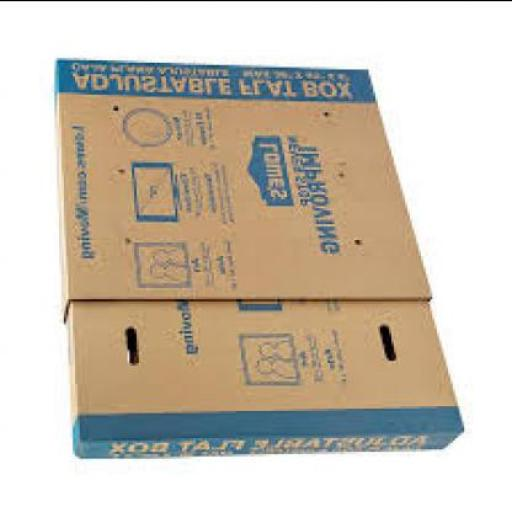cardboard: (50, 54, 462, 456)
